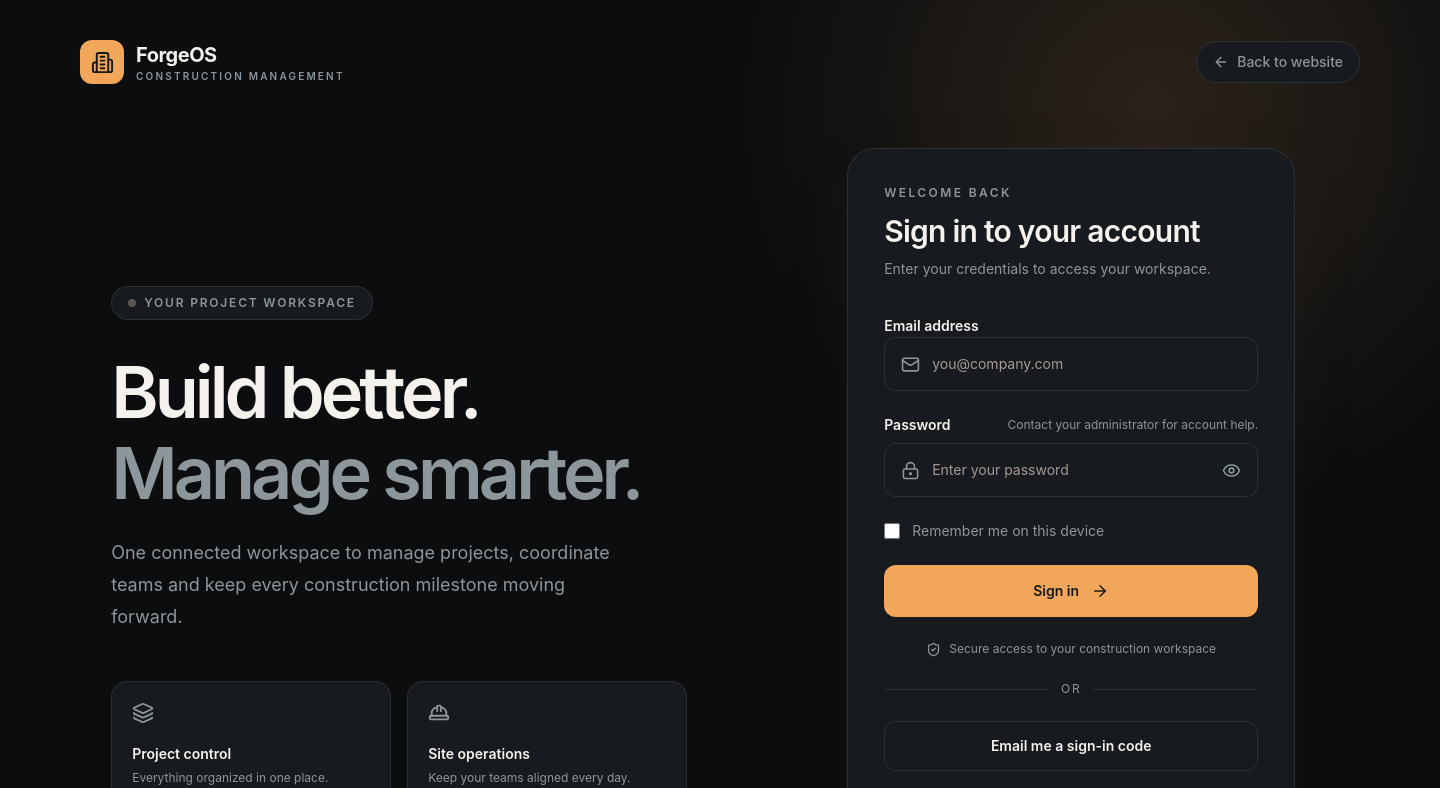
Scenario: LoginPage — OTP sign-in mode › a successful code request posts the email and reveals the code input
In the field labelled "Email address": (1087, 364) [932,338,1241,390], type "asha@forge.test"
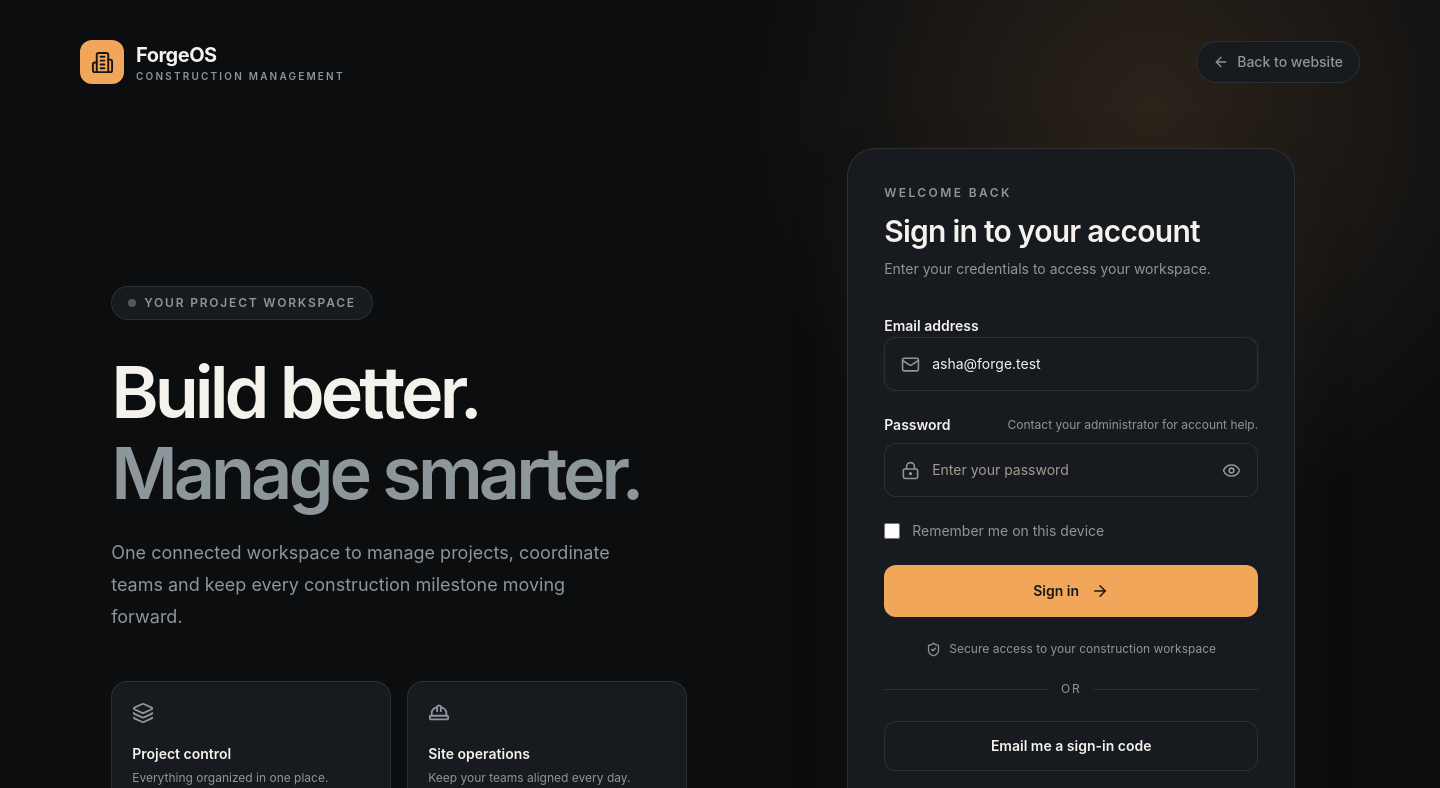
Click the button "Email me a sign-in code": (1071, 746) [884,721,1258,771]
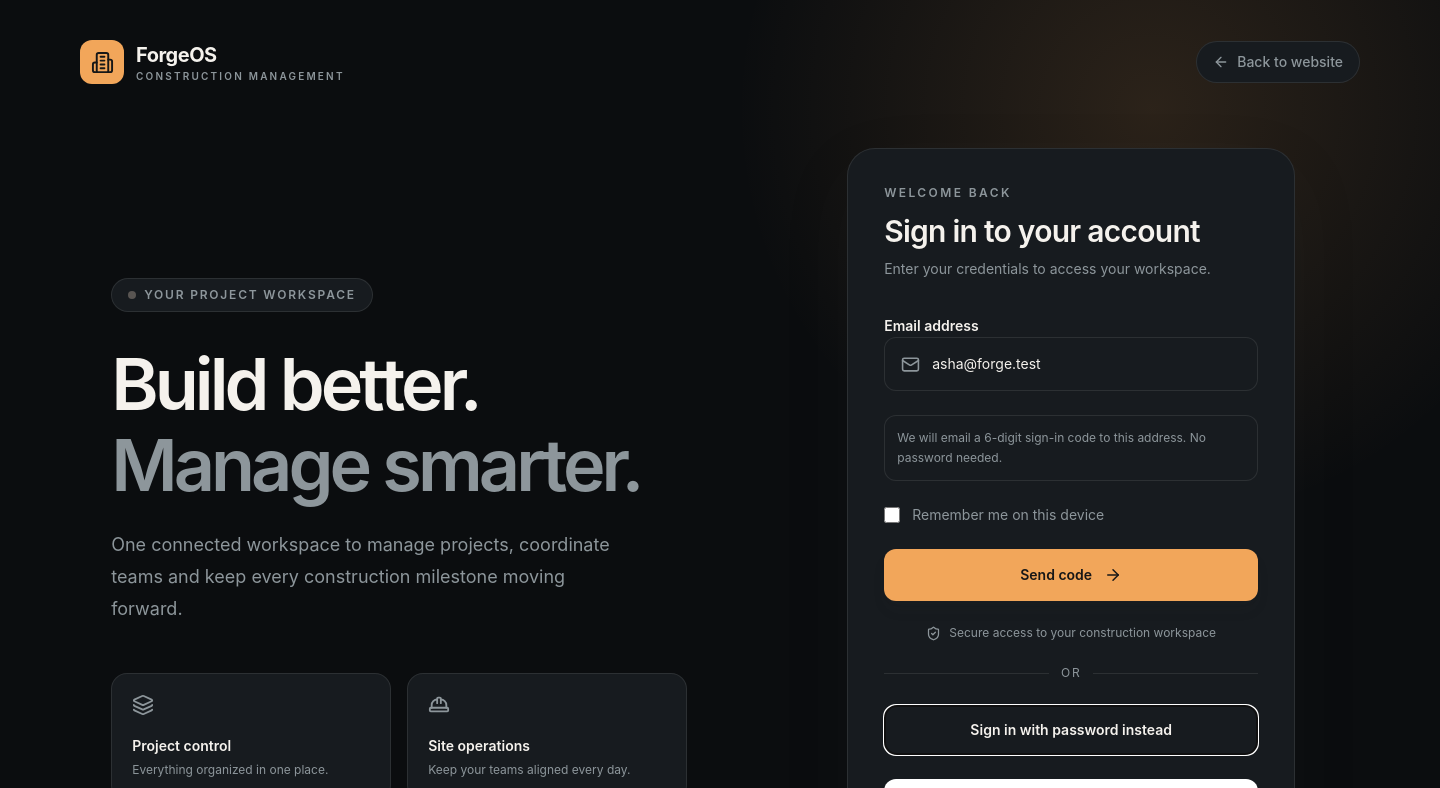
Click the button "Send code": (1071, 575) [884,549,1258,601]
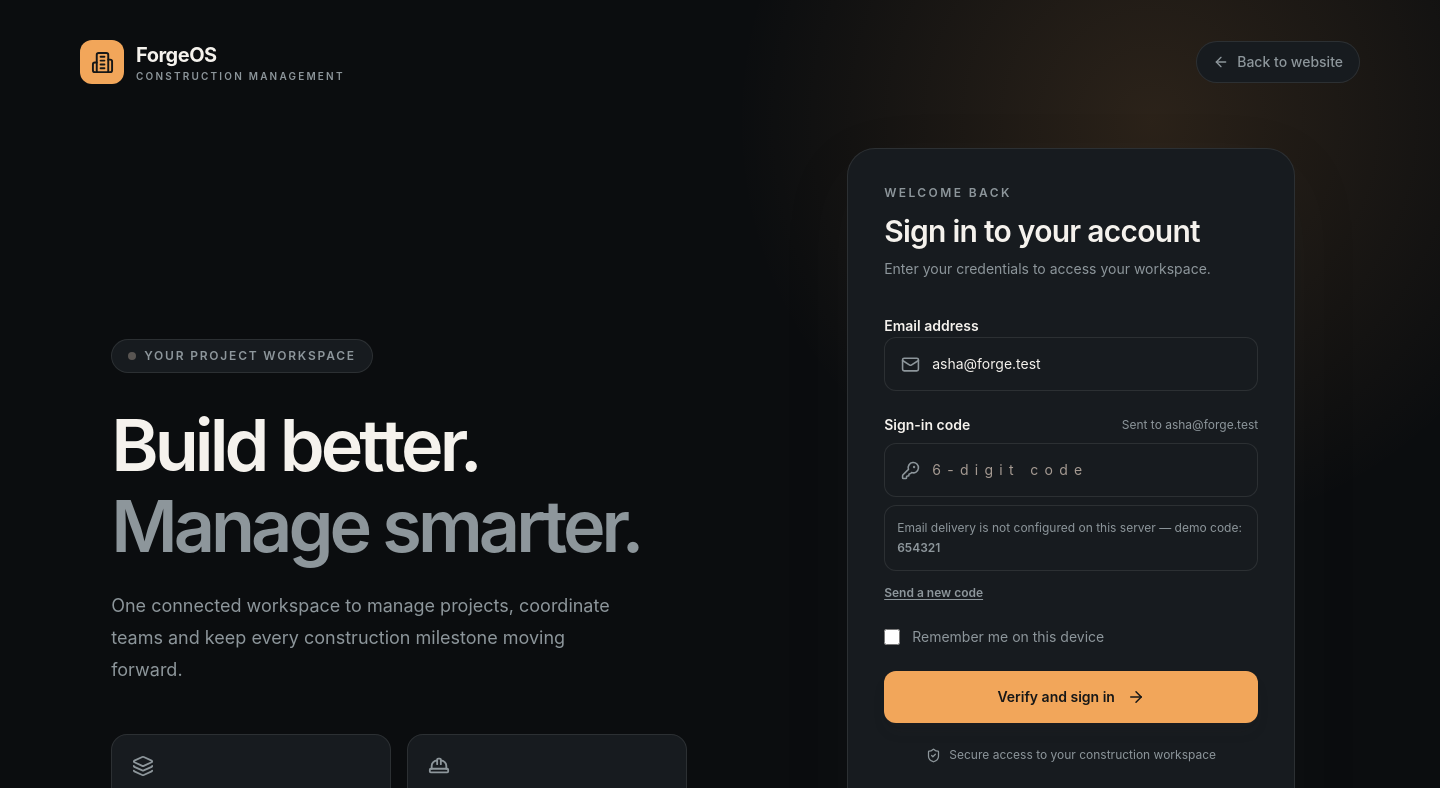
Check: the button "Verify and sign in" is enabled, box [884,671,1258,723]
Check: the field labelled "Sign-in code" is enabled, box [932,444,1241,496]
Check: the text "demo code:" shows "654321", box [897,540,940,555]
